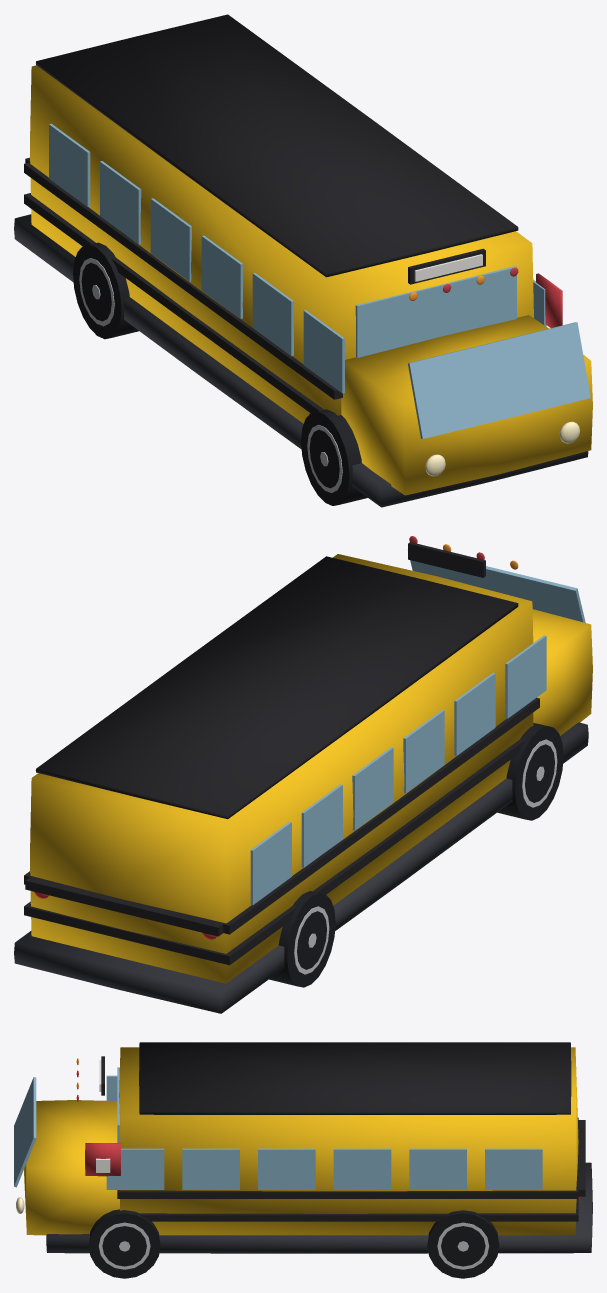
The model's file is school_bus.glb.
The picture shows the model from 3 angles, top to bottom: view 1: azimuth 30°, elevation 25°; view 2: azimuth 150°, elevation 25°; view 3: azimuth 270°, elevation 25°; orthographic projection. The views are drawn at different scales.
Parts seen in each view (by area): view 1: root; view 2: root; view 3: root.
Boxes of the visible parts, <box> form: root: <box>14,14,592,507</box>; root: <box>14,536,592,1013</box>; root: <box>14,1042,592,1278</box>.
Size of the model in its own units: 2.58 by 2.6 by 8.04.
